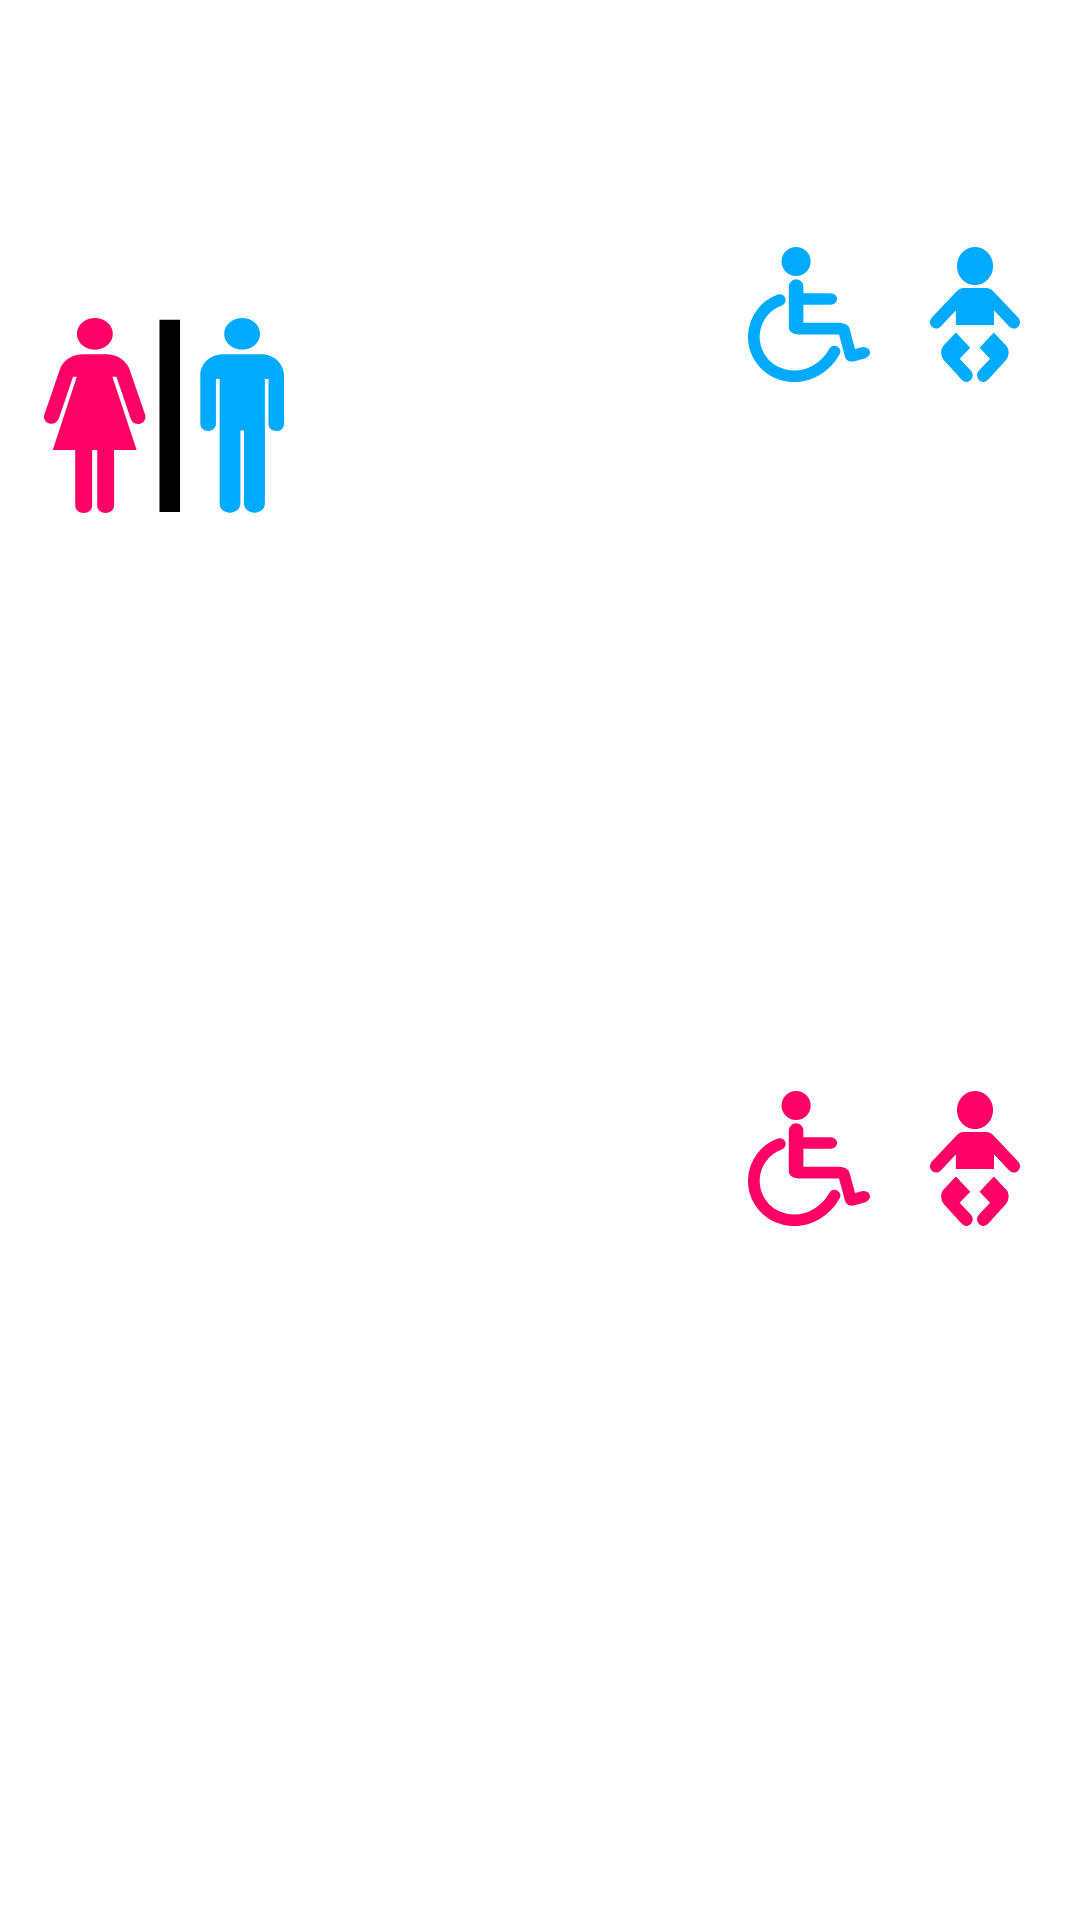

Screen size 1080px x 1920px. Icon name, then its center in pixels as point (x, y):
baby man: point (975, 314)
baby woman: point (975, 1158)
toilets: point (164, 415)
